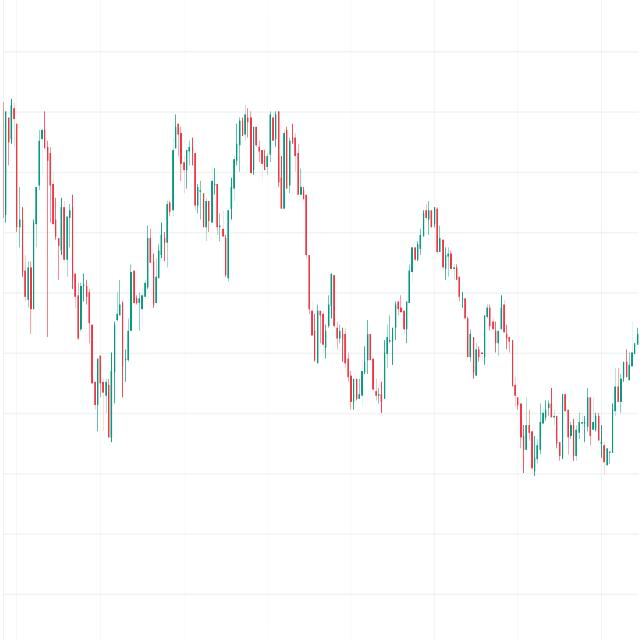Channel-down: (385, 133, 549, 382)
Rounding-Bottom: (41, 172, 177, 444), (537, 386, 604, 471)
